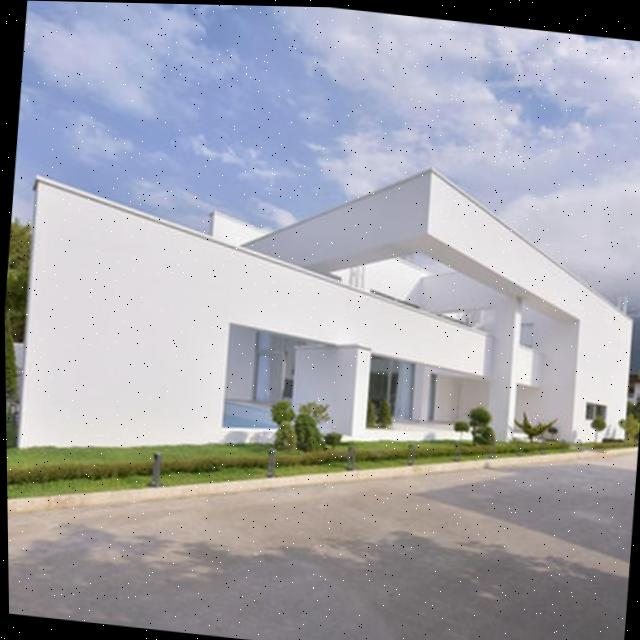building: (11, 125, 640, 512)
